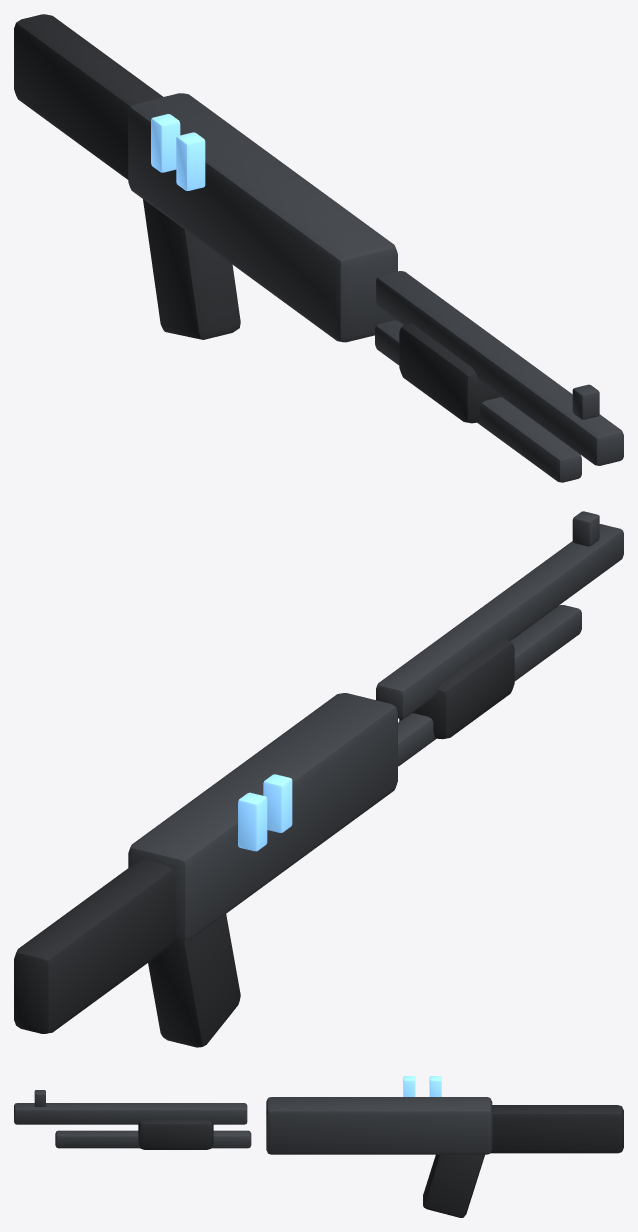
File: weapon_shotgun.glb
The picture shows the model from 3 angles, top to bottom: view 1: azimuth 30°, elevation 25°; view 2: azimuth 150°, elevation 25°; view 3: azimuth 270°, elevation 25°; orthographic projection. The views are drawn at different scales.
Parts seen in each view (by area): view 1: receiver, stock, barrel, grip, pump, tube, shell1, shell2, sight; view 2: receiver, stock, barrel, grip, pump, tube, shell2, shell1, sight; view 3: receiver, stock, barrel, grip, tube, pump, shell1, shell2.
Part boxes in pixels (x1,y1,x2,y2): receiver: (128, 93, 397, 342); stock: (14, 14, 162, 179); barrel: (376, 271, 623, 465); grip: (143, 199, 240, 339); pump: (399, 323, 502, 423); tube: (375, 320, 581, 482); shell1: (176, 132, 205, 190); shell2: (151, 114, 180, 172); sight: (572, 384, 599, 419); receiver: (128, 693, 397, 942); stock: (14, 860, 176, 1033); barrel: (376, 524, 623, 718); grip: (148, 914, 240, 1047); pump: (399, 639, 514, 739); tube: (398, 605, 581, 766); shell2: (238, 792, 267, 851); shell1: (263, 774, 292, 832); sight: (572, 511, 599, 546); receiver: (266, 1097, 492, 1154); stock: (491, 1105, 623, 1153); barrel: (14, 1103, 247, 1124); grip: (423, 1154, 484, 1217); tube: (55, 1130, 251, 1148); pump: (138, 1120, 213, 1149); shell1: (403, 1076, 415, 1096); shell2: (429, 1076, 441, 1096).
Size of the model in its own units: 0.136 by 0.3659 by 1.62.
